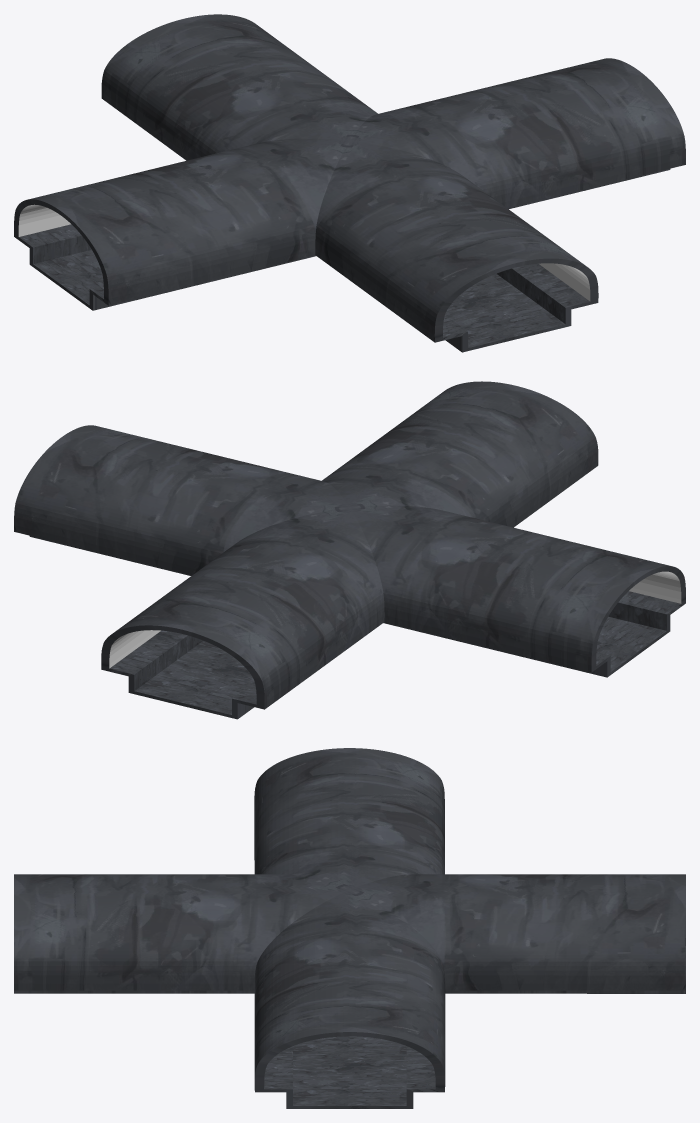
Rendered from crossroad.fbx.
3 views of the same model, one above another, from view 1: azimuth 30°, elevation 25°; view 2: azimuth 150°, elevation 25°; view 3: azimuth 270°, elevation 25° (orthographic).
Visible parts, largest first — view 1: Cylinder; view 2: Cylinder; view 3: Cylinder.
Part boxes in pixels (x1=…): Cylinder: x1=14, y1=14, x2=685, y2=352; Cylinder: x1=14, y1=381, x2=685, y2=719; Cylinder: x1=14, y1=748, x2=685, y2=1108.
Size of the model in its own units: 4233 by 534 by 4233.
Materials: 2 (1 with a texture image).
